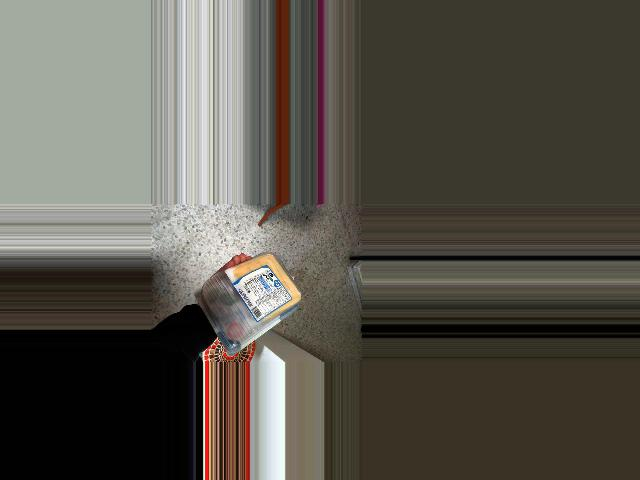cheese: (210, 262, 303, 314)
